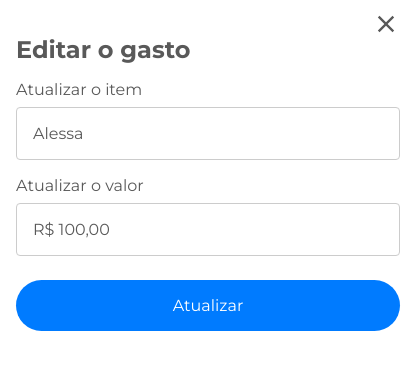
Edit component › should display error message when name input is empty
Clear the field with test id "testitem". click: (208, 134)
box: [16, 107, 400, 160]
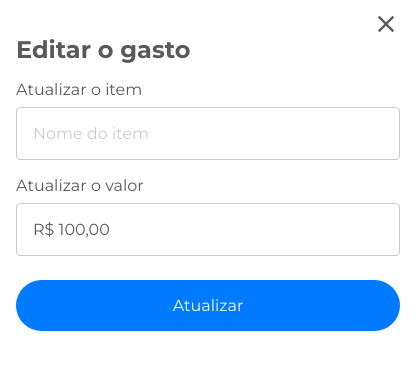
Click the button "Atualizar". click: (208, 306)
box: [16, 280, 400, 331]
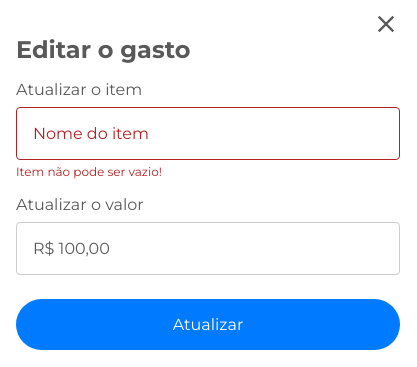
Check: the text "Item não pode ser vazio!" is shown, box [16, 164, 162, 179]
